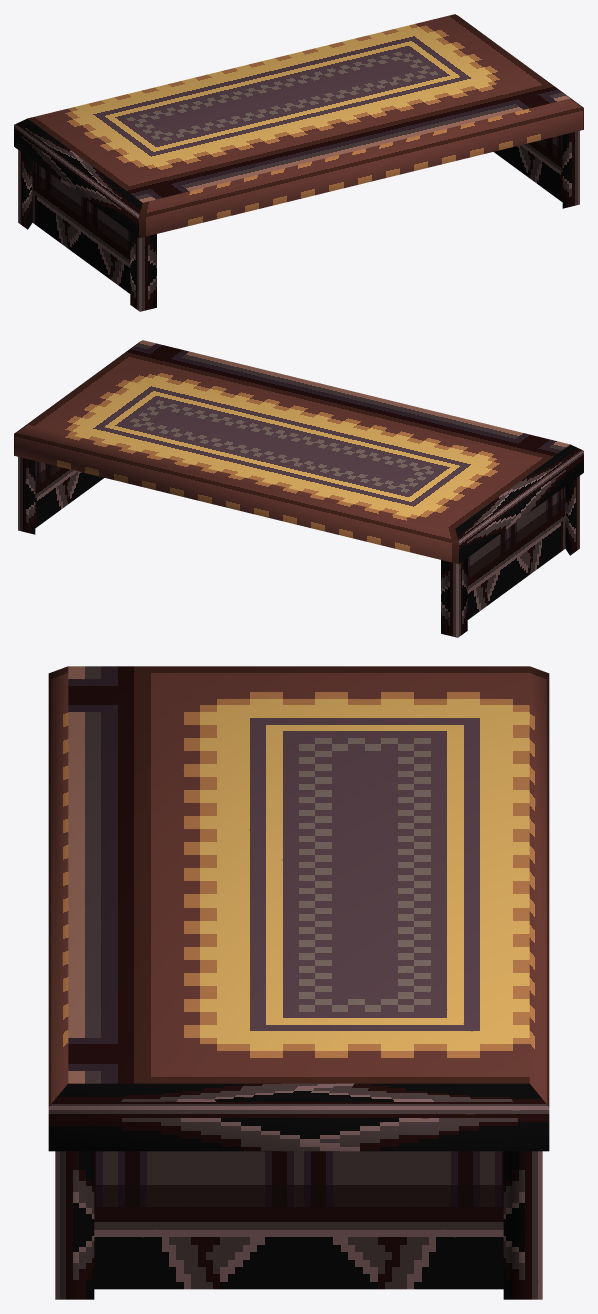
3 views of the same model, one above another, from view 1: azimuth 30°, elevation 25°; view 2: azimuth 150°, elevation 25°; view 3: azimuth 270°, elevation 25° (orthographic). The views are drawn at different scales.
Visible parts, largest first — view 1: 3055IMRL03_06; view 2: 3055IMRL03_06; view 3: 3055IMRL03_06.
Part boxes in pixels (left/top/right/bottom): 3055IMRL03_06: left=14, top=14, right=583, bottom=311; 3055IMRL03_06: left=14, top=340, right=583, bottom=637; 3055IMRL03_06: left=48, top=666, right=549, bottom=1299.
Bounding box in the file's own units: 1.95 × 0.4404 × 0.9502.
Materials: 2 (2 with a texture image).
